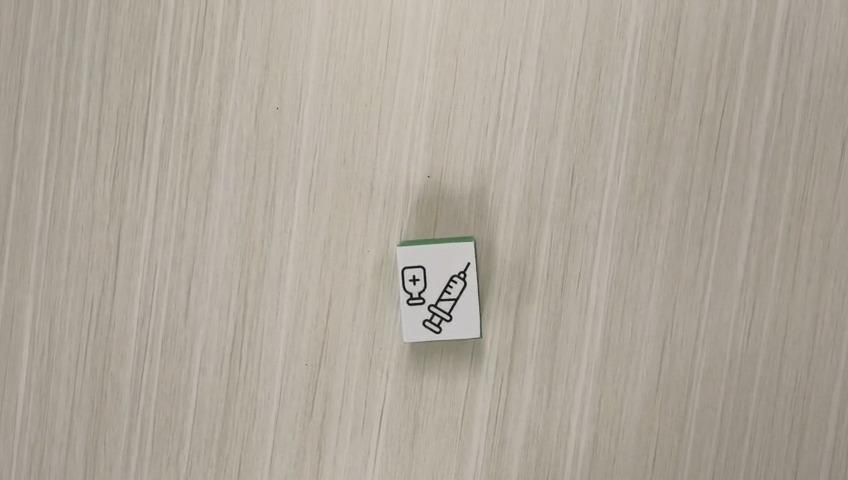antiseptic cream: (394, 235, 482, 343)
